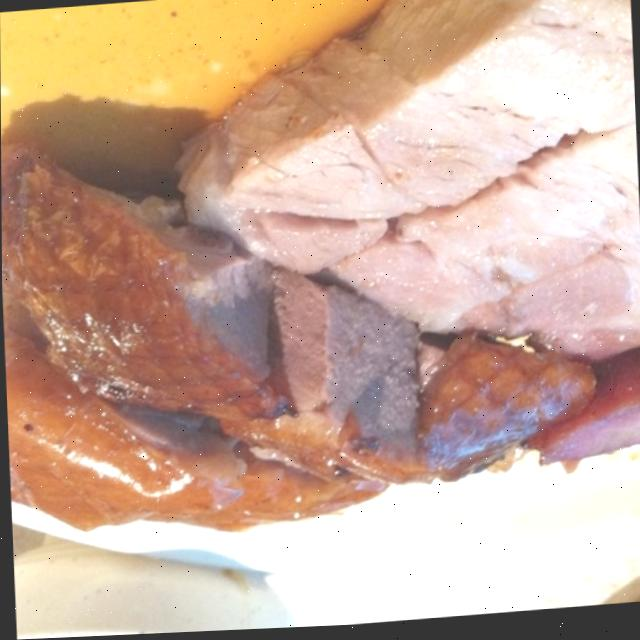牛肉菜式: (9, 9, 610, 584)
